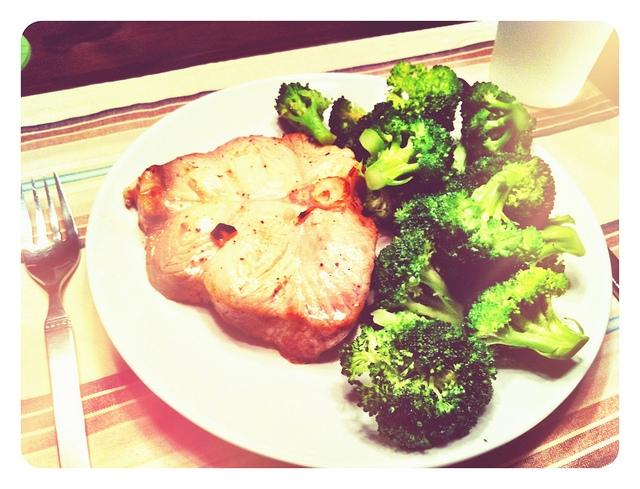broccoli: (338, 310, 498, 452), (393, 158, 538, 278), (462, 267, 589, 361), (370, 231, 466, 335), (466, 151, 556, 230), (365, 114, 457, 190), (459, 82, 536, 166), (386, 60, 464, 132), (274, 82, 338, 146), (342, 100, 393, 165), (518, 226, 586, 270), (328, 96, 368, 150), (360, 185, 404, 229), (359, 128, 392, 169)
